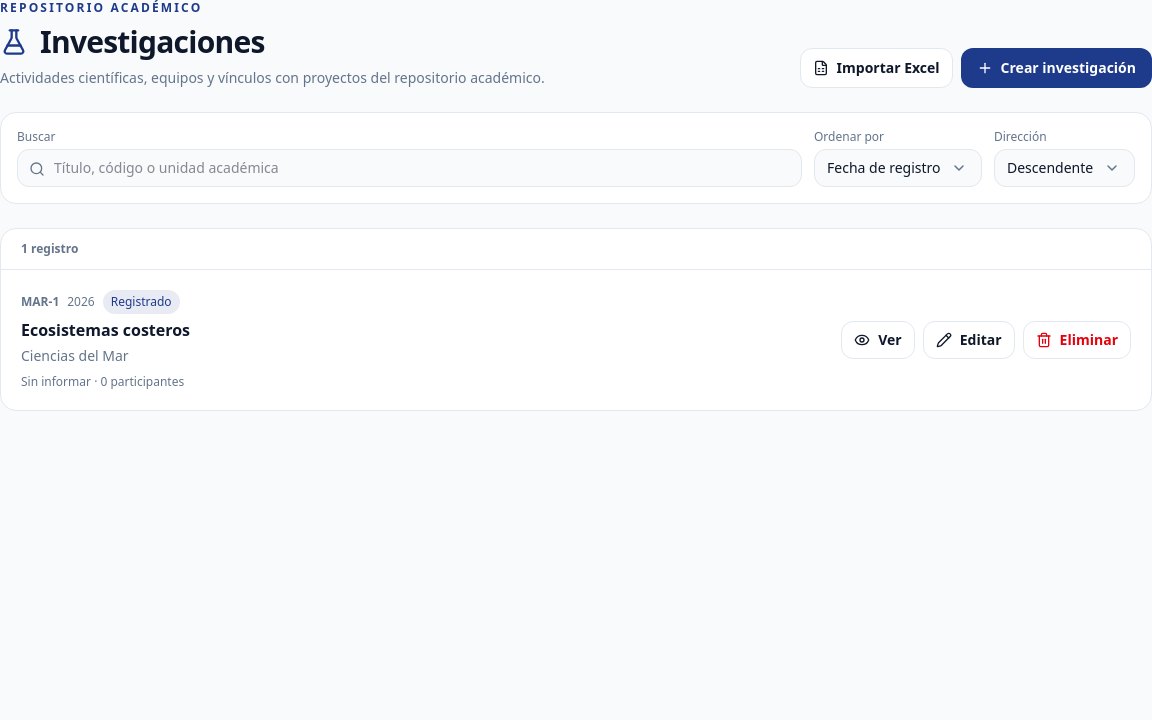
Scenario: Páginas del repositorio académico › abre por GraphQL el detalle científico completo antes de editar una investigación
Expected: the button "Ecosistemas costeros" is shown, [21,318,190,342]
What coordinates should you click on to do the following:
click the button "Editar"
I would click on:
 (969, 340)
Its box is [923,321,1015,359].
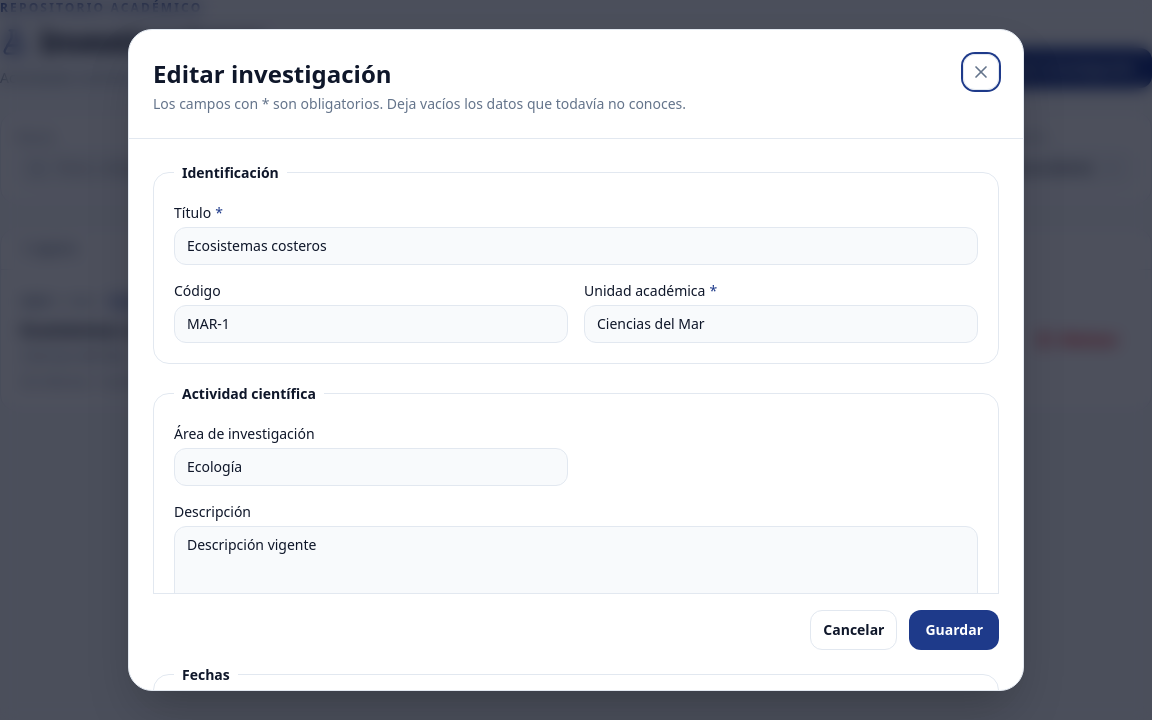
Expected: the text box showing "Descripción vigente" is shown, [174,526,978,624]
Expected: the field showing "Ecología" is shown, [174,448,568,486]
